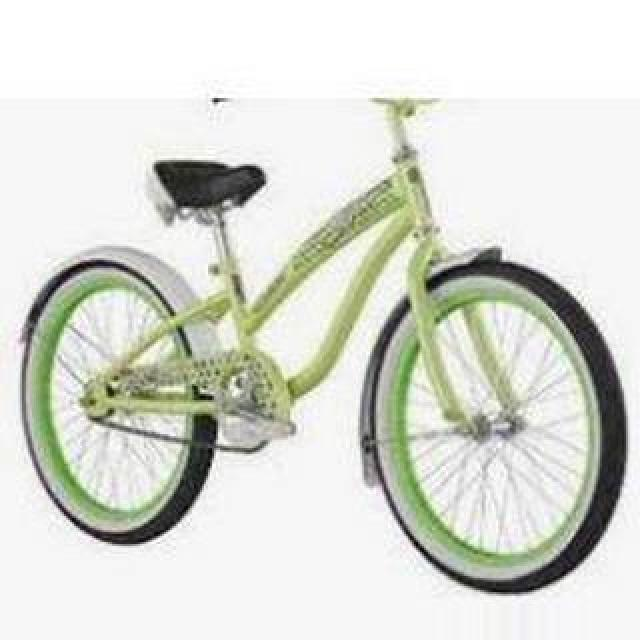Person: (16, 92, 628, 598)
